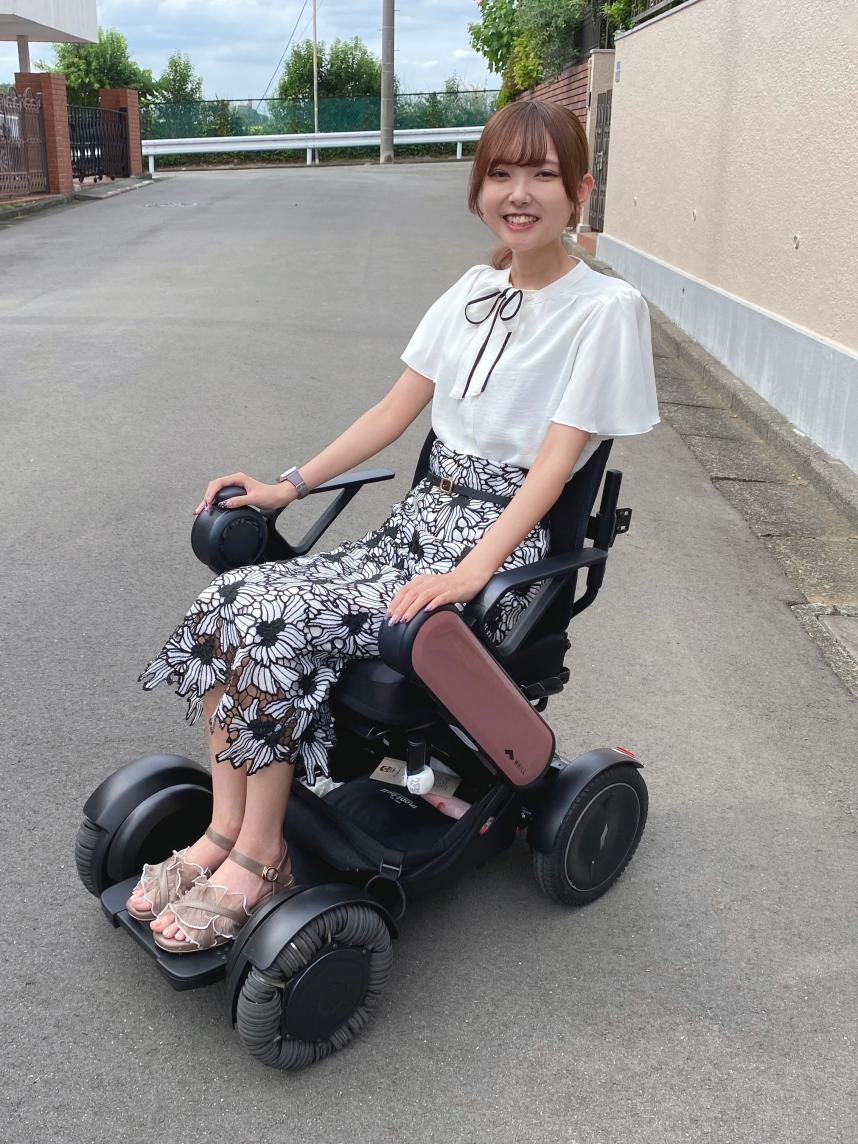wheelchair: (77, 99, 662, 1072)
